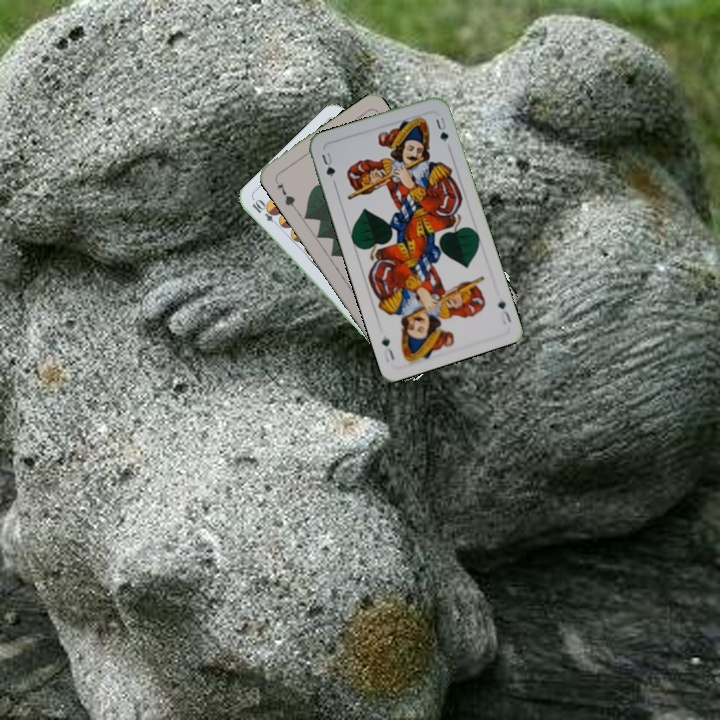E10: (248, 196, 283, 229)
G7: (273, 179, 298, 211)
GU: (317, 148, 338, 186), (493, 296, 514, 327)
